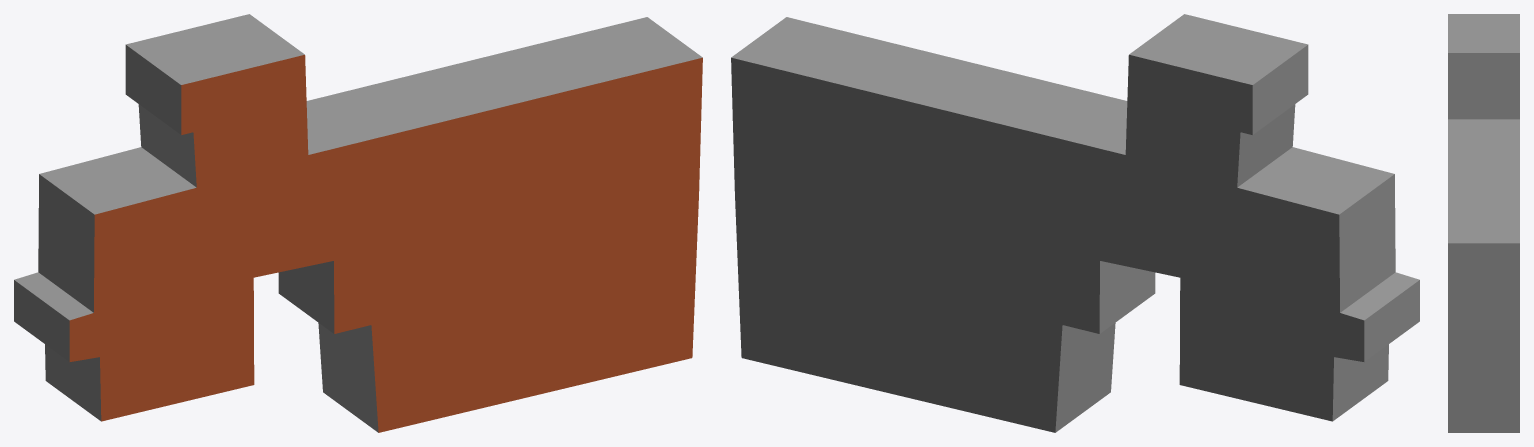
The model's file is construction_1895_assumed_A_Casa_h6m.obj.
The picture shows the model from 3 angles, left to right: view 1: azimuth 30°, elevation 25°; view 2: azimuth 150°, elevation 25°; view 3: azimuth 270°, elevation 25°; orthographic projection. The views are drawn at different scales.
Visible parts, largest first — view 1: construction_1895_assumed_A_Casa; view 2: construction_1895_assumed_A_Casa; view 3: construction_1895_assumed_A_Casa.
Part boxes in pixels (x1,y1,x2,y2): construction_1895_assumed_A_Casa: (14, 14, 702, 432); construction_1895_assumed_A_Casa: (731, 14, 1419, 432); construction_1895_assumed_A_Casa: (1448, 14, 1519, 432).
Bounding box in the file's own units: 39.48 × 23.7 × 6.
